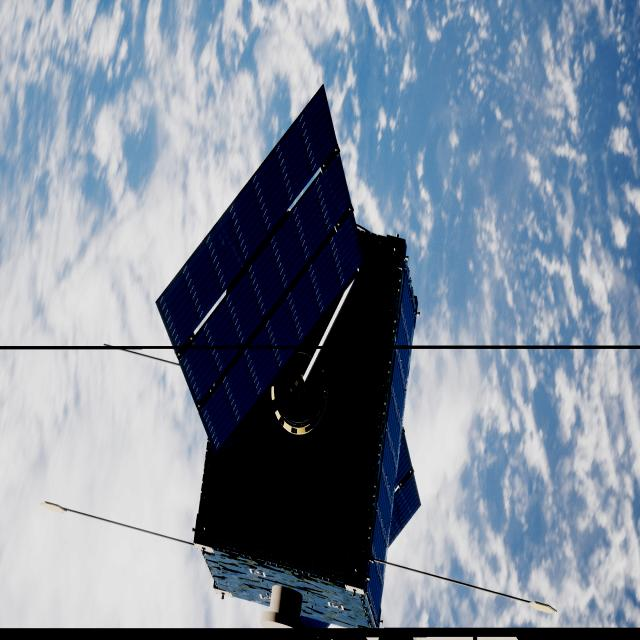medium_debris: (162, 94, 420, 627)
